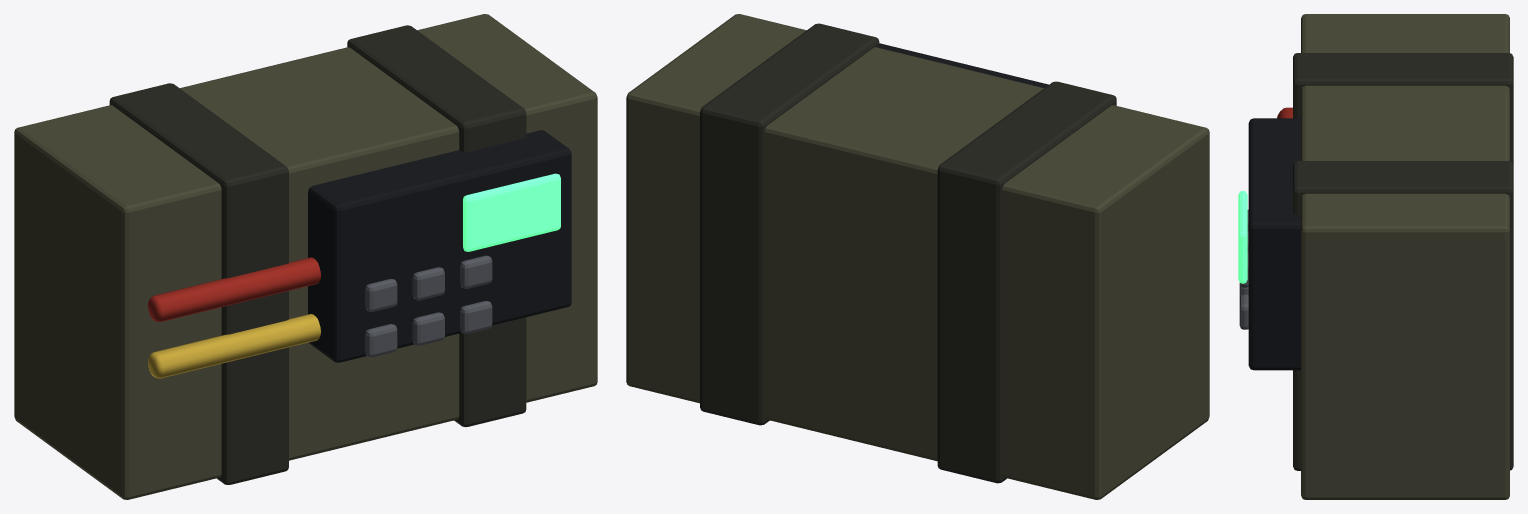
3 views of the same model, side by side, from view 1: azimuth 30°, elevation 25°; view 2: azimuth 150°, elevation 25°; view 3: azimuth 270°, elevation 25° (orthographic). The views are drawn at different scales.
Parts seen in each view (by area): view 1: body; view 2: body; view 3: body.
Part boxes in pixels (x1=…): body: x1=14, y1=14, x2=597, y2=499; body: x1=626, y1=14, x2=1209, y2=499; body: x1=1238, y1=14, x2=1513, y2=499.
Size of the model in its own units: 0.22 by 0.135 by 0.1185.
